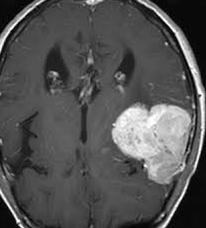Tumour-Meningioma: (112, 96, 192, 188)
